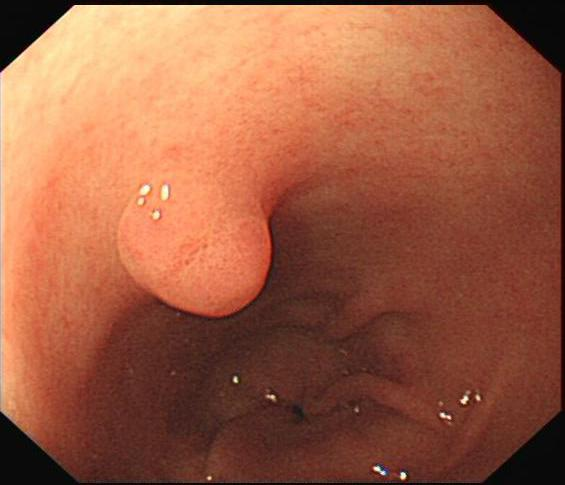Polyp: (111, 156, 276, 330)
